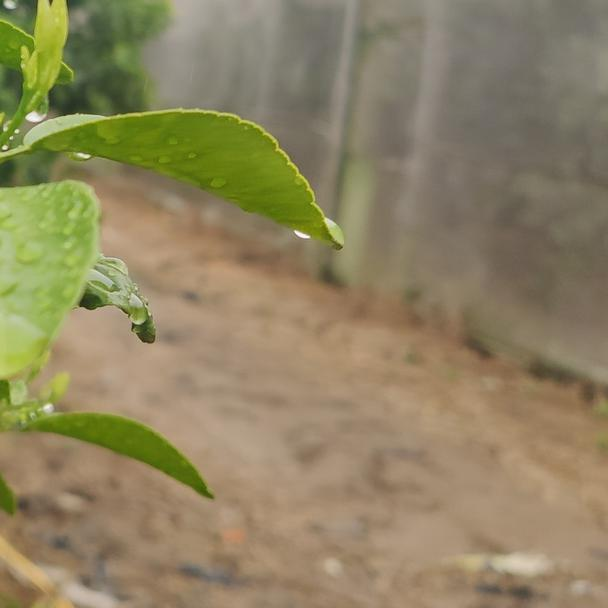shoot: (14, 2, 72, 97)
